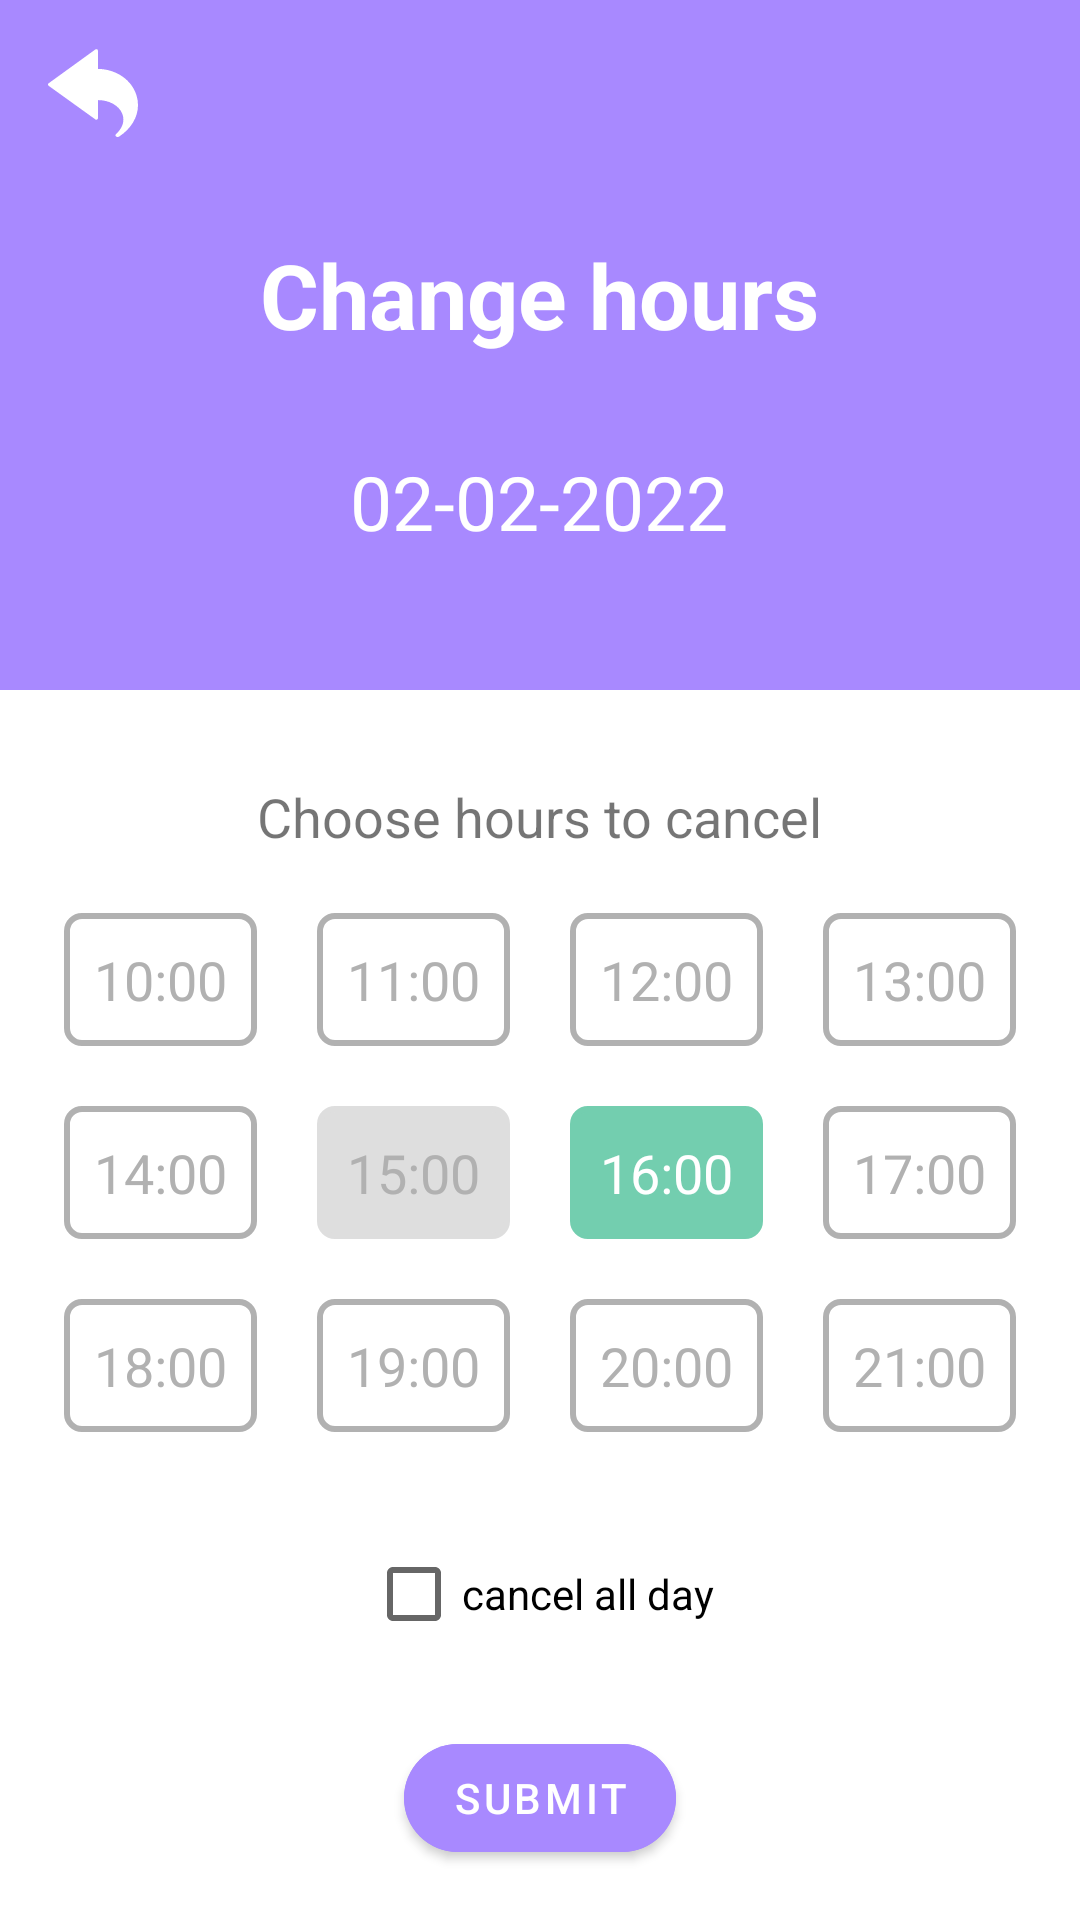

Screen size 1080px x 1920px. Icon name, then its center in pixels as [x,y]:
back: [93,93]
